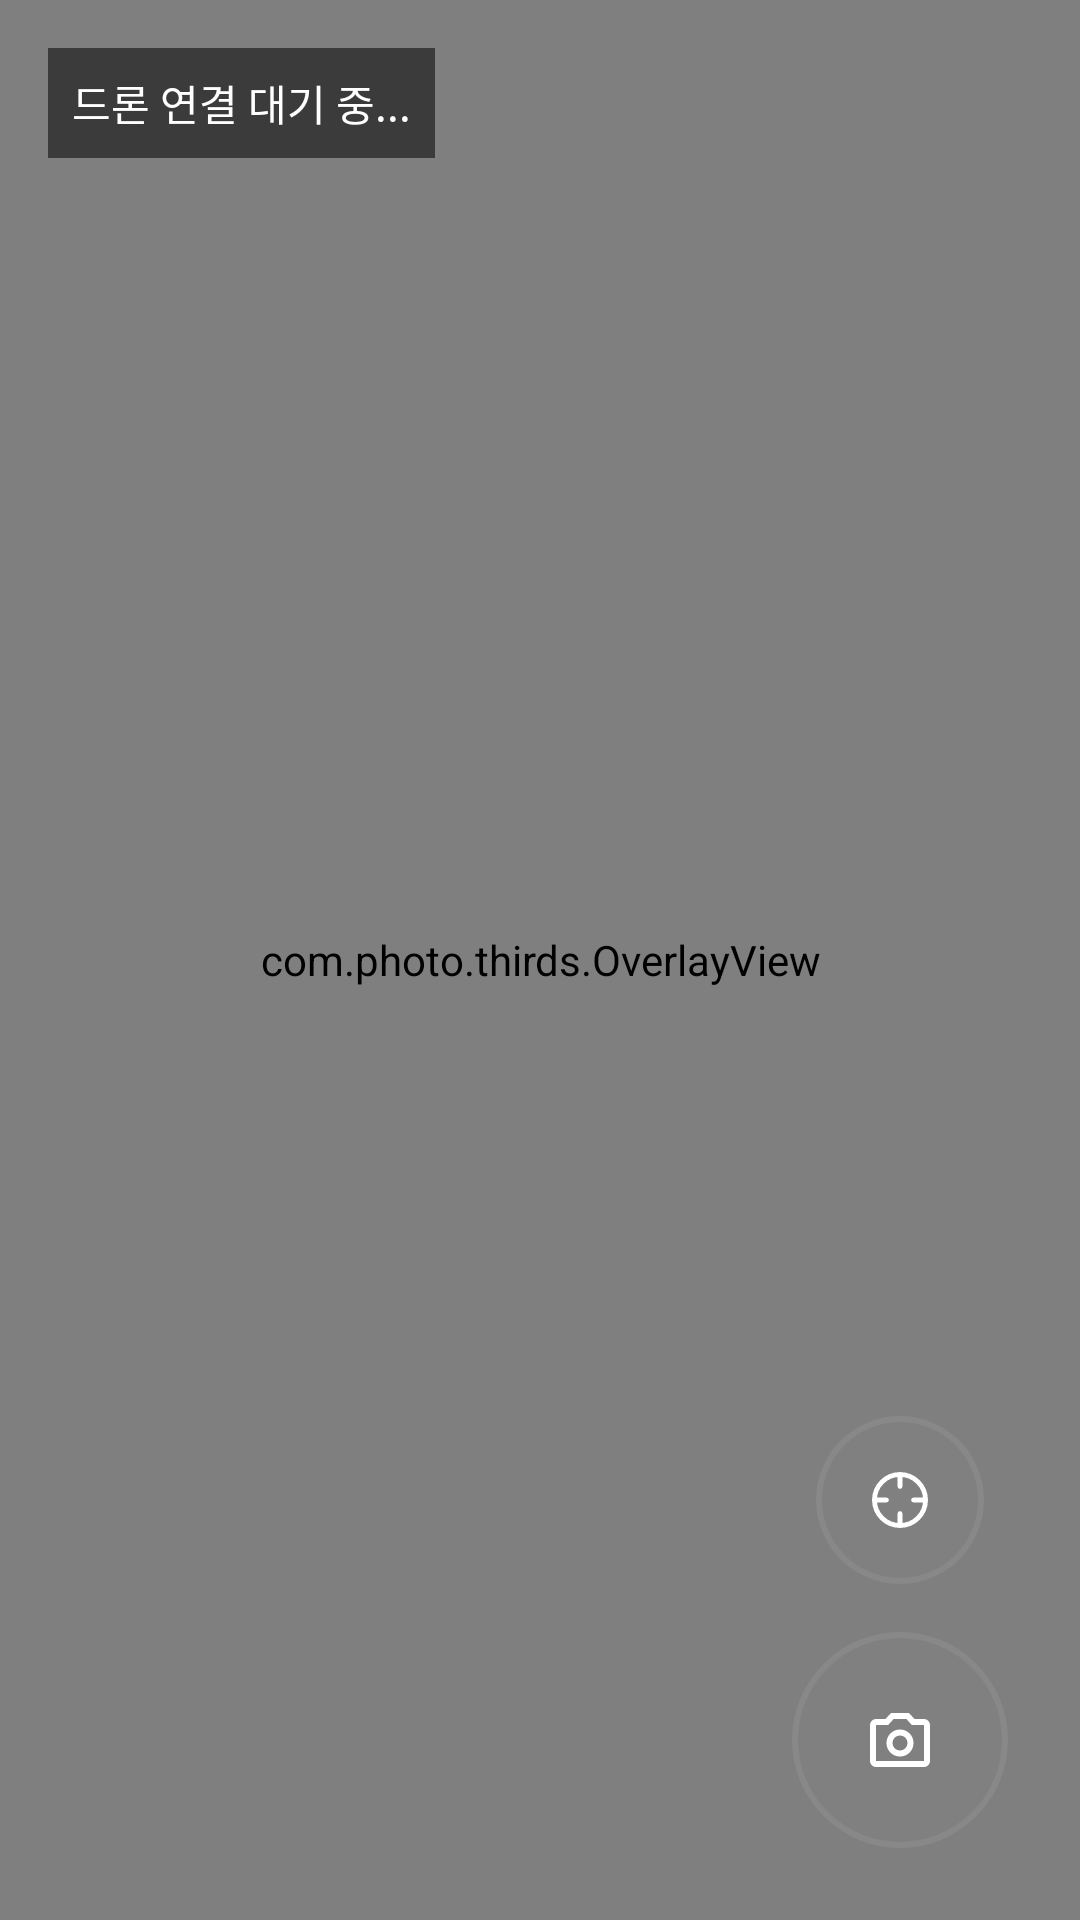

Icons on this 1080x1920 Android screen, each with the point to tap as (x,y):
촬영: (900,1740)
탐지: (900,1500)
